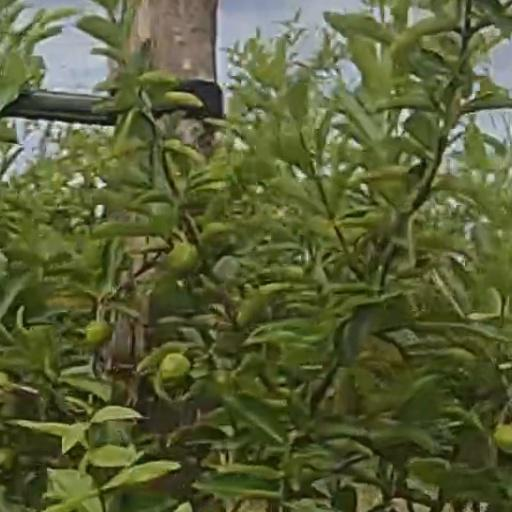acerola: (170, 243, 201, 277), (160, 355, 187, 386)
